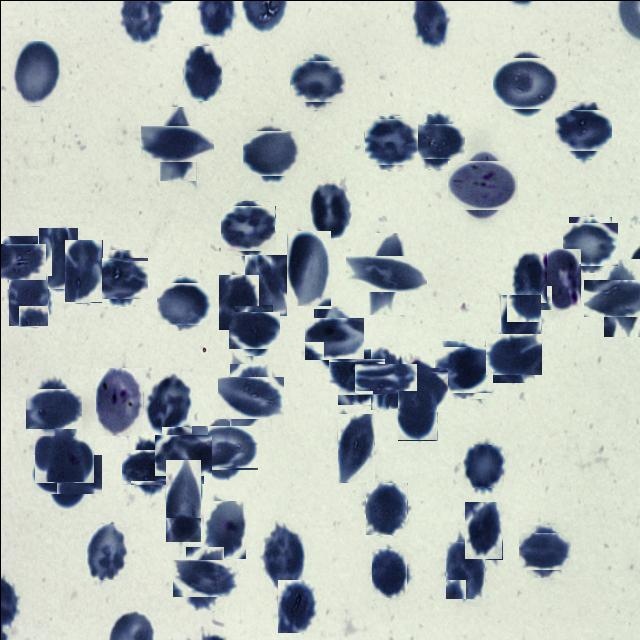red blood cell: (496, 52, 555, 111), (356, 244, 416, 302), (286, 230, 330, 305), (12, 40, 60, 106), (39, 446, 94, 501), (196, 420, 252, 474), (165, 459, 201, 542), (223, 369, 277, 424), (150, 116, 204, 170), (34, 434, 94, 482), (244, 126, 296, 178), (437, 343, 489, 395), (392, 363, 444, 415), (178, 552, 230, 604), (593, 269, 640, 326), (308, 312, 359, 363), (261, 528, 305, 587), (145, 375, 191, 431), (244, 254, 286, 315), (337, 413, 374, 482), (222, 202, 272, 253), (558, 104, 608, 154), (564, 218, 614, 268), (292, 56, 342, 106), (364, 116, 414, 166), (38, 226, 78, 288), (84, 523, 128, 579), (500, 294, 541, 354), (28, 383, 78, 432), (157, 430, 207, 479), (488, 329, 538, 378), (203, 500, 245, 558), (64, 238, 102, 302), (95, 253, 144, 302), (158, 278, 208, 326), (308, 180, 350, 237), (445, 540, 485, 598), (8, 268, 48, 326), (332, 352, 379, 400), (218, 272, 258, 328), (365, 482, 407, 535), (464, 501, 502, 559), (413, 118, 459, 164), (362, 354, 408, 400), (183, 45, 221, 100), (277, 579, 316, 632), (522, 528, 567, 573), (397, 390, 437, 440), (125, 444, 170, 488), (231, 307, 275, 352), (0, 239, 41, 284), (510, 251, 546, 302), (461, 444, 503, 487), (371, 546, 406, 596)
ring: (452, 155, 512, 215), (95, 367, 143, 436), (539, 248, 581, 310)
